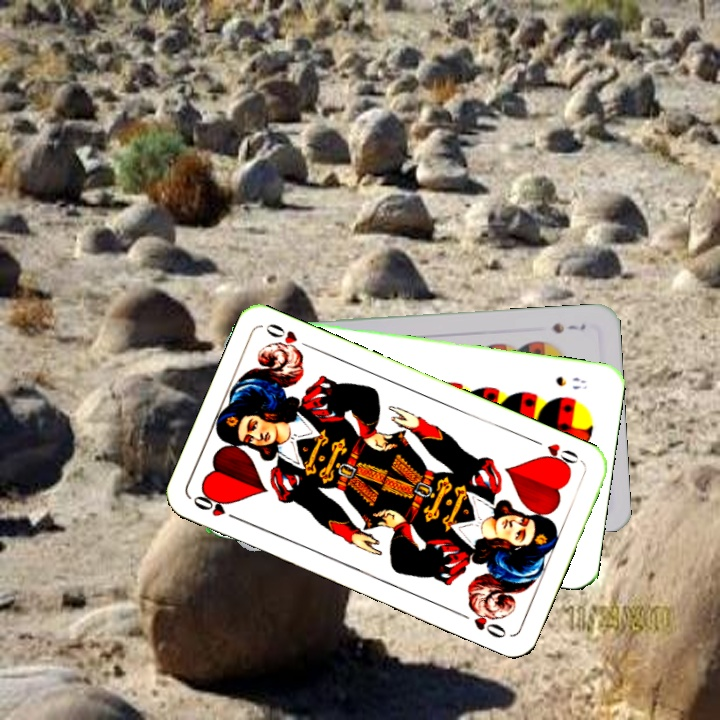HO: (189, 488, 245, 524), (528, 435, 581, 472)
S7: (548, 319, 588, 336)
S8: (552, 372, 590, 392)
